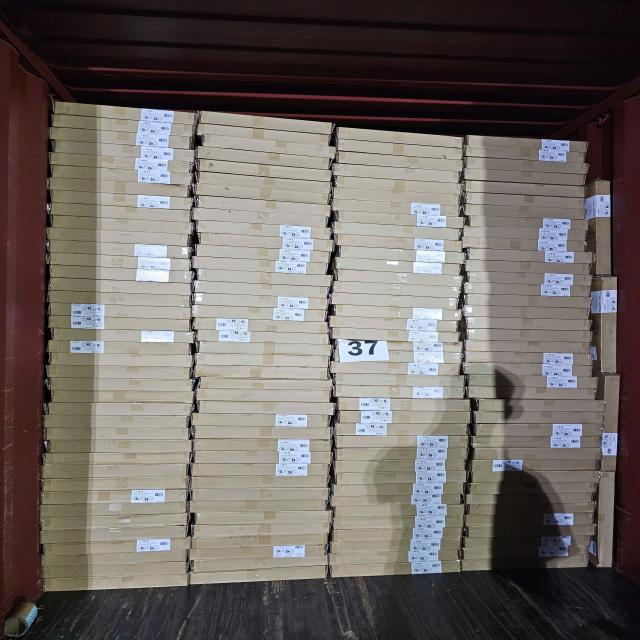Carton: (53, 99, 199, 126), (48, 138, 196, 163), (50, 112, 196, 137), (199, 110, 335, 136), (200, 133, 336, 159), (197, 145, 332, 171), (48, 125, 194, 149), (46, 163, 194, 186), (43, 237, 191, 260), (44, 213, 198, 235), (42, 536, 195, 558), (48, 201, 194, 224), (41, 547, 191, 569), (195, 170, 332, 194), (45, 189, 194, 211), (43, 225, 192, 247), (44, 250, 193, 272), (197, 123, 333, 147), (194, 182, 330, 206), (39, 524, 192, 545), (46, 176, 192, 198), (47, 276, 193, 298), (195, 195, 333, 218), (42, 572, 192, 593), (46, 152, 194, 173), (46, 263, 194, 284), (192, 206, 330, 228), (191, 254, 329, 276), (44, 288, 194, 308), (41, 560, 191, 580), (336, 126, 464, 149), (336, 138, 464, 161), (197, 232, 336, 253), (193, 243, 332, 264), (39, 500, 192, 519), (189, 564, 327, 585), (332, 162, 462, 184), (336, 150, 464, 172), (338, 244, 466, 266), (193, 220, 333, 240), (47, 302, 193, 321), (47, 314, 193, 333), (46, 327, 198, 345), (194, 278, 330, 298), (45, 351, 196, 369), (191, 555, 331, 574), (329, 559, 462, 579), (195, 268, 333, 287), (334, 175, 464, 195), (334, 233, 464, 253), (334, 268, 464, 288), (333, 221, 461, 241), (335, 256, 463, 276), (44, 364, 193, 381), (46, 401, 194, 418), (190, 543, 329, 561), (464, 144, 589, 164), (46, 339, 192, 356), (336, 210, 466, 229), (332, 280, 462, 299), (191, 304, 328, 322), (193, 316, 330, 334), (332, 198, 461, 217), (193, 292, 329, 310), (328, 536, 464, 554), (334, 187, 462, 206), (40, 490, 191, 506), (196, 399, 338, 416), (463, 156, 590, 175), (330, 525, 464, 543), (327, 548, 461, 566), (40, 464, 190, 480), (42, 477, 192, 493), (192, 424, 333, 441), (42, 413, 191, 429), (190, 411, 330, 428), (462, 167, 587, 186), (46, 376, 194, 392), (43, 426, 191, 442), (40, 515, 188, 531), (463, 180, 587, 199), (49, 388, 196, 404), (195, 340, 333, 357), (330, 292, 460, 310), (329, 315, 459, 333), (330, 326, 460, 344), (466, 134, 589, 153), (191, 532, 328, 549), (468, 247, 596, 265), (336, 396, 471, 413), (460, 361, 594, 378), (462, 224, 588, 242), (465, 258, 591, 276), (41, 451, 192, 466), (193, 510, 334, 526), (191, 522, 332, 538), (464, 202, 589, 220), (462, 350, 594, 367), (192, 437, 332, 453), (464, 192, 588, 210), (332, 514, 463, 531), (193, 364, 332, 380), (332, 304, 462, 321), (463, 281, 592, 298), (195, 329, 332, 345), (195, 352, 331, 368), (198, 375, 334, 391), (332, 458, 467, 474), (464, 315, 591, 332), (334, 384, 468, 400), (334, 470, 468, 486), (466, 373, 600, 389), (461, 236, 587, 253), (192, 450, 334, 465), (190, 462, 332, 477), (44, 439, 196, 453), (333, 372, 466, 388), (338, 409, 471, 425), (331, 482, 464, 498), (190, 475, 331, 490), (190, 487, 330, 502), (333, 349, 464, 365), (331, 361, 462, 377), (461, 304, 592, 320), (467, 385, 598, 401), (463, 339, 593, 355), (468, 214, 590, 231), (196, 388, 334, 403), (464, 293, 593, 309), (334, 434, 471, 449), (466, 327, 594, 343), (466, 270, 593, 286), (334, 447, 469, 462), (471, 446, 604, 461), (188, 499, 330, 513), (473, 410, 605, 425), (333, 338, 464, 353), (476, 398, 607, 413), (599, 276, 619, 374), (596, 471, 616, 568), (334, 422, 471, 436), (594, 177, 613, 277), (333, 504, 467, 518), (330, 493, 463, 507), (472, 423, 605, 437), (470, 435, 602, 449), (468, 481, 597, 495), (466, 491, 594, 505), (600, 373, 618, 471), (470, 471, 602, 484), (471, 459, 601, 472)
